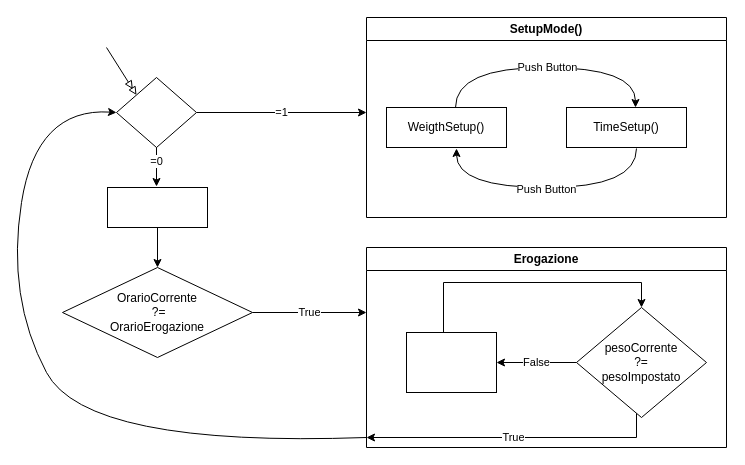
The diagram is 745 pixels wide and 465 high, and some of its shapes have lost their labels. Here are the shapes that lost their labels. From the top down, the centre of each, then its label:
At (x=156, y=112): "SwitchValue".
At (x=157, y=207): "Stampa su display".
At (x=451, y=362): "Eroga".
